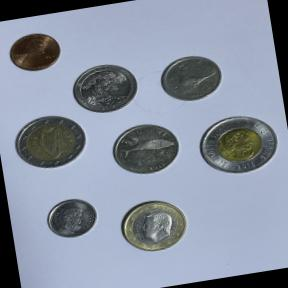coin: (185, 100, 288, 187), (4, 108, 92, 179), (106, 189, 194, 260), (102, 115, 188, 186), (66, 55, 144, 121), (0, 21, 70, 80), (39, 190, 104, 246)
